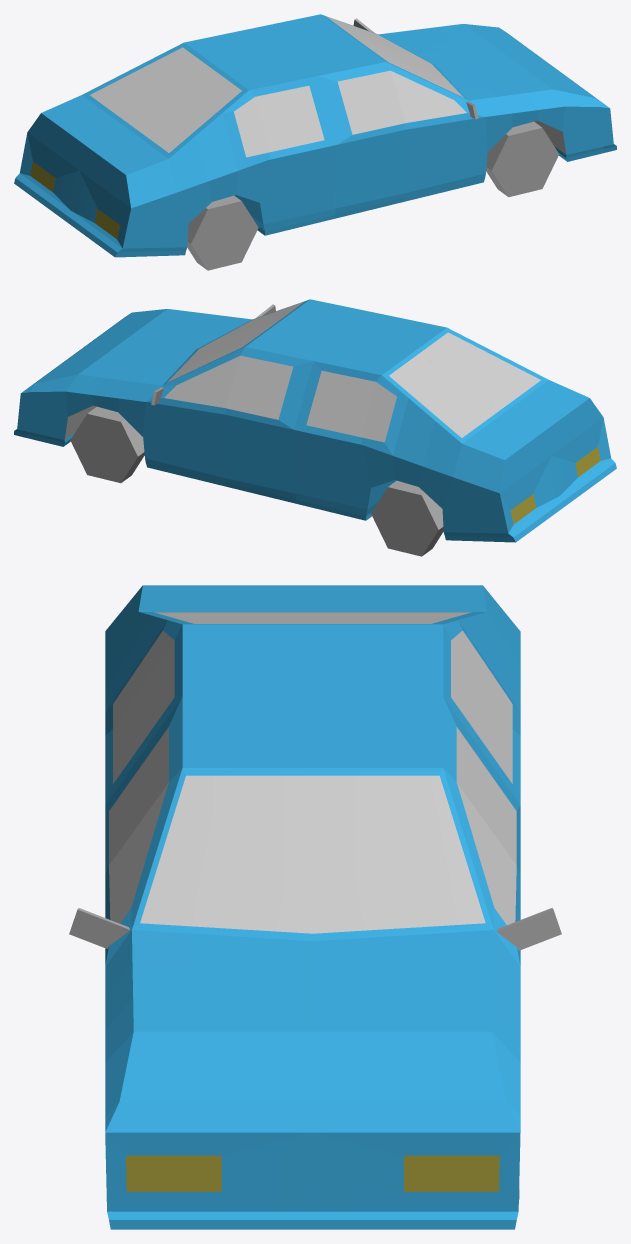
Rendered from jingche.fbx.
3 renders of one model, top to bottom at view 1: azimuth 30°, elevation 25°; view 2: azimuth 150°, elevation 25°; view 3: azimuth 270°, elevation 25°, orthographic. The views are drawn at different scales.
Parts seen in each view (by area): view 1: Box001, NGon001, NGon003; view 2: Box001, NGon001, NGon003; view 3: Box001, Box002.
Part boxes in pixels (x1,y1,x2,y2): Box001: [14, 14, 616, 257]; NGon001: [486, 121, 559, 197]; NGon003: [187, 195, 258, 270]; Box001: [14, 299, 616, 542]; NGon001: [70, 406, 144, 483]; NGon003: [371, 480, 443, 556]; Box001: [105, 585, 520, 1229]; Box002: [69, 908, 561, 950].
Size of the model in its own units: 509 by 148 by 216.
